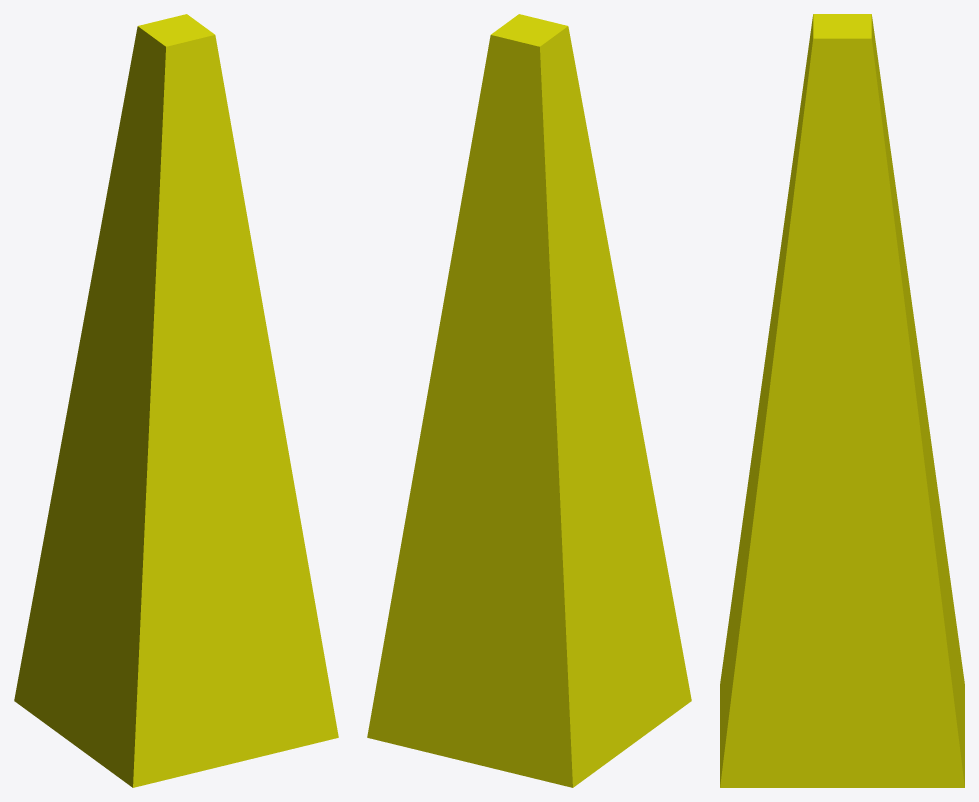
3 renders of one model, left to right at view 1: azimuth 30°, elevation 25°; view 2: azimuth 150°, elevation 25°; view 3: azimuth 270°, elevation 25°, orthographic. The views are drawn at different scales.
Parts seen in each view (by area): view 1: barier; view 2: barier; view 3: barier.
Part boxes in pixels (box(x1,y1,x2,y2)): barier: box(14, 14, 338, 787); barier: box(367, 14, 691, 787); barier: box(720, 14, 964, 787).
Size of the model in its own units: 0.1958 by 0.626 by 0.1958.
Materials: 1 (1 with a texture image).
